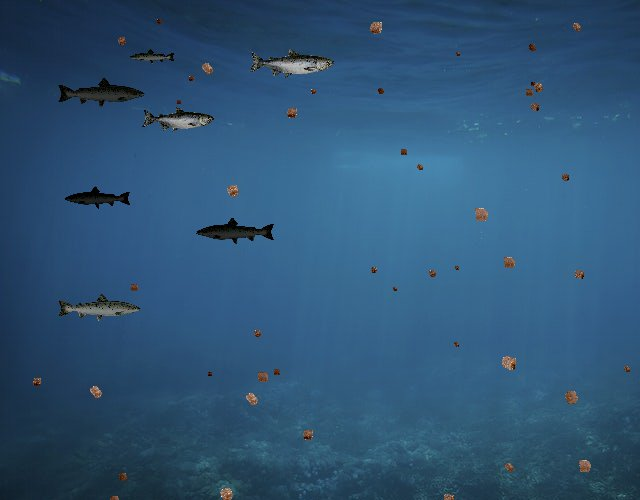Fish: (57, 77, 147, 109), (56, 292, 142, 323), (248, 48, 334, 79), (196, 217, 277, 246), (141, 106, 214, 133), (64, 186, 132, 210), (130, 49, 177, 66)
Pellet: (467, 200, 495, 228), (497, 251, 521, 275), (195, 56, 219, 80), (499, 457, 519, 477), (528, 77, 548, 97), (452, 262, 462, 272)
